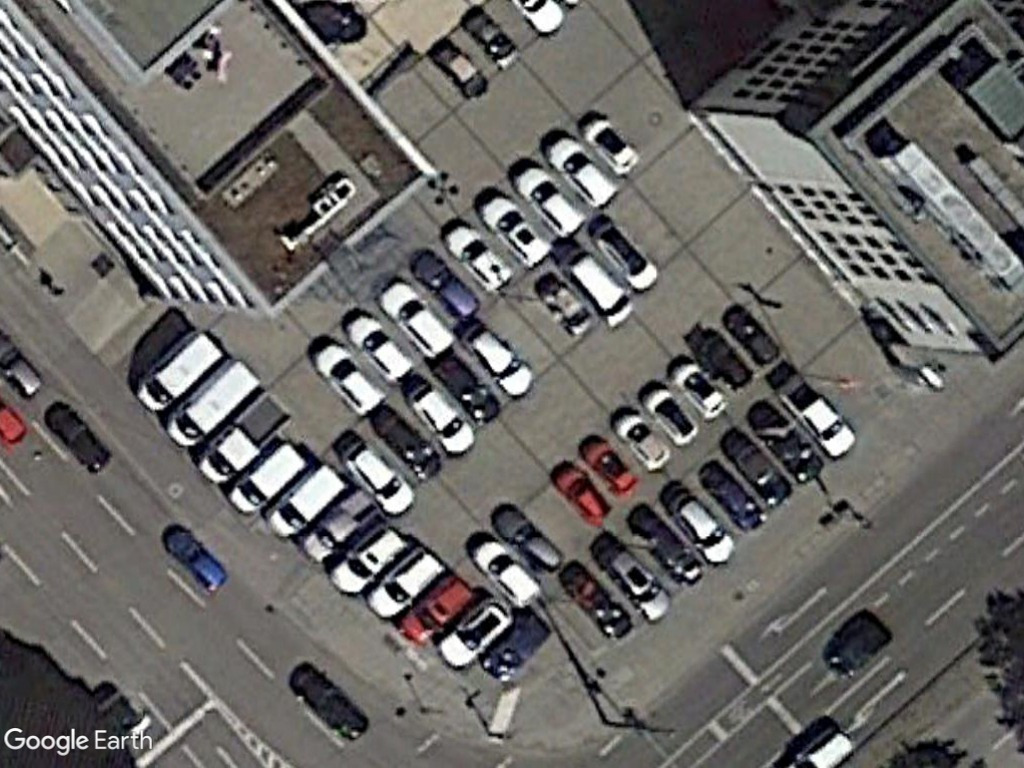car: (778, 372, 855, 460), (378, 276, 457, 361), (399, 378, 478, 462), (363, 543, 443, 622), (543, 133, 620, 212), (512, 162, 588, 240), (478, 193, 554, 271), (340, 437, 415, 516), (325, 522, 405, 595), (667, 486, 737, 567), (343, 311, 415, 389), (312, 342, 386, 416), (441, 218, 512, 295), (460, 326, 535, 398), (471, 535, 542, 609), (488, 505, 562, 576), (574, 434, 640, 496), (550, 465, 616, 526)
other: (196, 392, 291, 487)
van: (164, 357, 265, 450), (133, 330, 224, 418), (263, 461, 345, 544), (224, 443, 310, 517)
